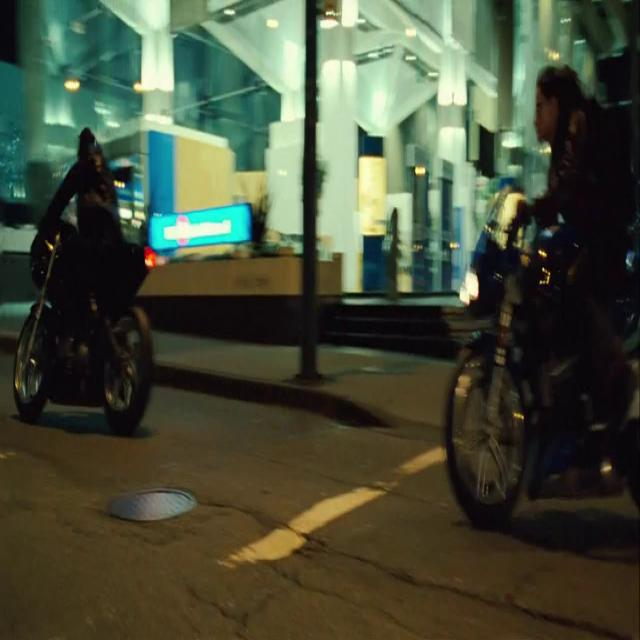Motorbike: (460, 1, 640, 515), (31, 127, 161, 443)
